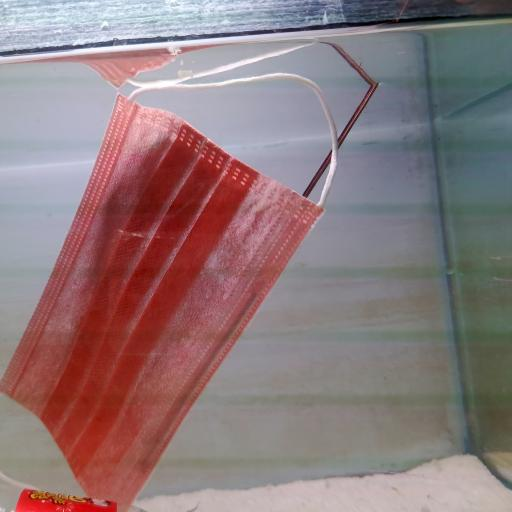mask: (3, 68, 340, 470)
plastic_bottle: (0, 472, 160, 512)
